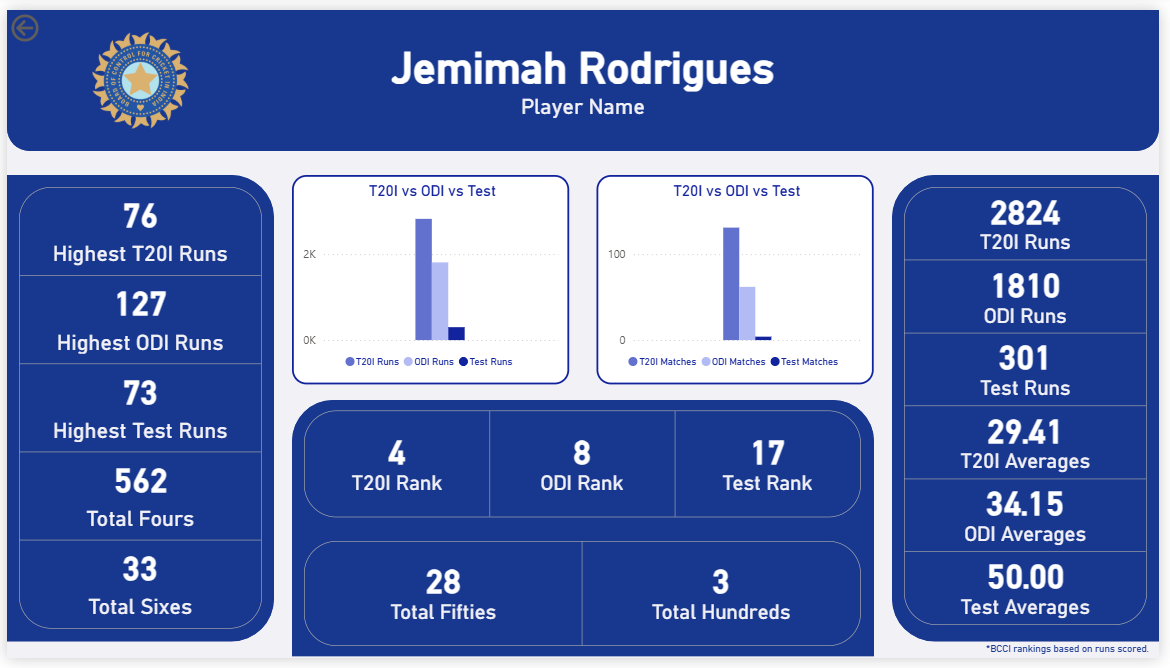

The page's visual inventory and layout, read from the dashboard file:
{"tool":"powerbi","page":{"name":"Player Profile","canvas":[1280,720],"ordinal":5},"visuals":[{"type":"shape","box":[317.2,432.6,646.7,285],"z":0},{"type":"shape","box":[0,0,1280,156.7],"z":1000},{"type":"group","id":"g1","title":"Group 5","box":[0,183.3,296.7,518.3],"z":3000},{"type":"group","id":"g2","title":"Group 6","box":[983.3,183.3,296.7,518.3],"z":4000},{"type":"group","id":"g3","title":"Group 7","box":[316.7,576.7,646.7,143.3],"z":5000},{"type":"cardVisual","fields":{"Data":["Max(Player_Data.T20I_Rank)","Max(Player_Data.ODI_Rank)","Max(Player_Data.Test_Rank)"]},"box":[316.7,431.7,646.7,145],"z":6000},{"type":"cardVisual","fields":{"Data":["Min(Player_Data.Player)"]},"box":[0,0,1280,156.7],"z":7000},{"type":"image","box":[81.7,25,133.3,106.7],"z":9000},{"type":"actionButton","box":[0,0,100,40],"z":10000},{"type":"textbox","box":[1076.9,695.4,203.1,24.6],"z":11000},{"type":"clusteredColumnChart","title":"T20I vs ODI vs Test","fields":{"Y":["Sum(Player_Data.T20I_Runs)","Sum(Player_Data.ODI_Runs)","Sum(Player_Data.Test_Runs)"]},"box":[317.5,183.3,308,232.4],"z":12000},{"type":"clusteredColumnChart","title":"T20I vs ODI vs Test","fields":{"Y":["Sum(Player_Data.T20I_Matches)","Sum(Player_Data.ODI_Matches)","Sum(Player_Data.Test_Matches)"]},"box":[655.8,183.3,308,232.4],"z":12001},{"type":"shape","box":[0,183.3,296.7,518.3],"z":19001,"group":"g1"},{"type":"shape","box":[983.3,183.3,296.7,518.3],"z":19001,"group":"g2"},{"type":"cardVisual","fields":{"Data":["Sum(Player_Data.T20I_Runs)","Sum(Player_Data.ODI_Runs)","Sum(Player_Data.Test_Runs)","Player_Data.Max_Avg_T20i","Player_Data.Max_Avg_Odi","Player_Data.Max_Avg_Test"]},"box":[983.3,183.3,296.7,518.3],"z":19501,"group":"g2"},{"type":"cardVisual","fields":{"Data":["Player_Data.Max_T20i","Player_Data.Max_Odi","Player_Data.Max_Test","Player_Data.Total_Fours","Player_Data.Total_Sixes"]},"box":[0,183.4,296.6,518.2],"z":19501,"group":"g1"},{"type":"cardVisual","fields":{"Data":["Player_Data.Total_Fifties","Player_Data.Total_Hundreds"]},"box":[316.7,576.7,646.7,143.3],"z":19501,"group":"g3"}]}

Visuals, with their boxes in screenshot pixels (x1, y1, x2, y2), scaled from the page's 1280x720 canvas onto the 1170x668 screenshot:
shape: bbox(290, 401, 881, 666)
shape: bbox(0, 0, 1169, 145)
"Group 5" group: bbox(0, 170, 271, 651)
"Group 6" group: bbox(899, 170, 1169, 651)
"Group 7" group: bbox(289, 535, 881, 667)
cardVisual - Max(Player_Data.T20I_Rank) x Max(Player_Data.ODI_Rank): bbox(289, 401, 881, 535)
cardVisual - Min(Player_Data.Player): bbox(0, 0, 1169, 145)
image: bbox(75, 23, 197, 122)
actionButton: bbox(0, 0, 91, 37)
textbox: bbox(984, 645, 1169, 667)
"T20I vs ODI vs Test" clusteredColumnChart: bbox(290, 170, 572, 386)
"T20I vs ODI vs Test" clusteredColumnChart: bbox(599, 170, 881, 386)
shape: bbox(0, 170, 271, 651)
shape: bbox(899, 170, 1169, 651)
cardVisual - Sum(Player_Data.T20I_Runs) x Sum(Player_Data.ODI_Runs): bbox(899, 170, 1169, 651)
cardVisual - Player_Data.Max_T20i x Player_Data.Max_Odi: bbox(0, 170, 271, 651)
cardVisual - Player_Data.Total_Fifties x Player_Data.Total_Hundreds: bbox(289, 535, 881, 667)
